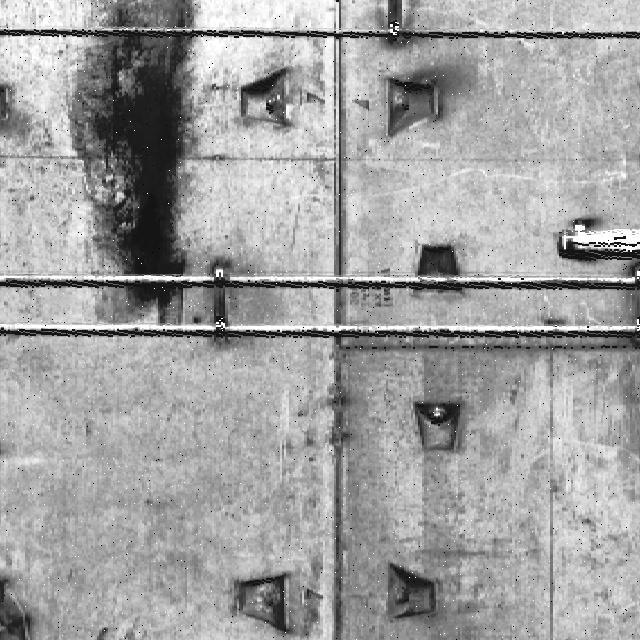leakage: (64, 1, 200, 323)
